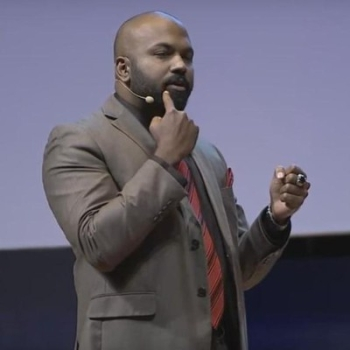hand: (149, 90, 200, 163), (270, 162, 311, 219)
